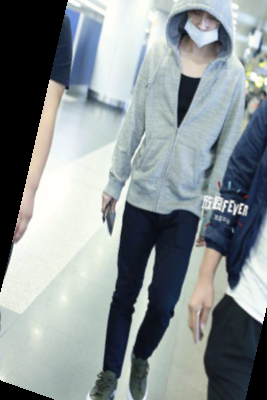mask_weared_incorrect: (164, 2, 241, 64)
